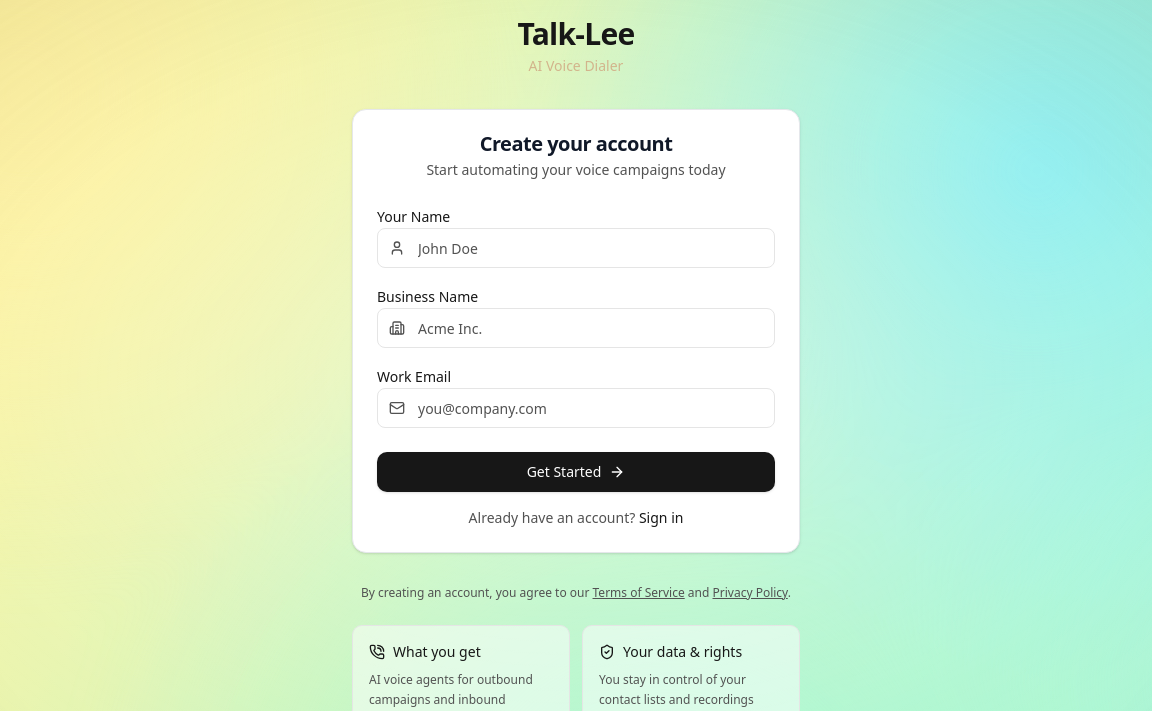
it: duplicate signup shows sign-in guidance and leaves the email editable
Type "Example Owner" into the field labelled "Your Name". click: (576, 248)
box: [377,228,775,268]
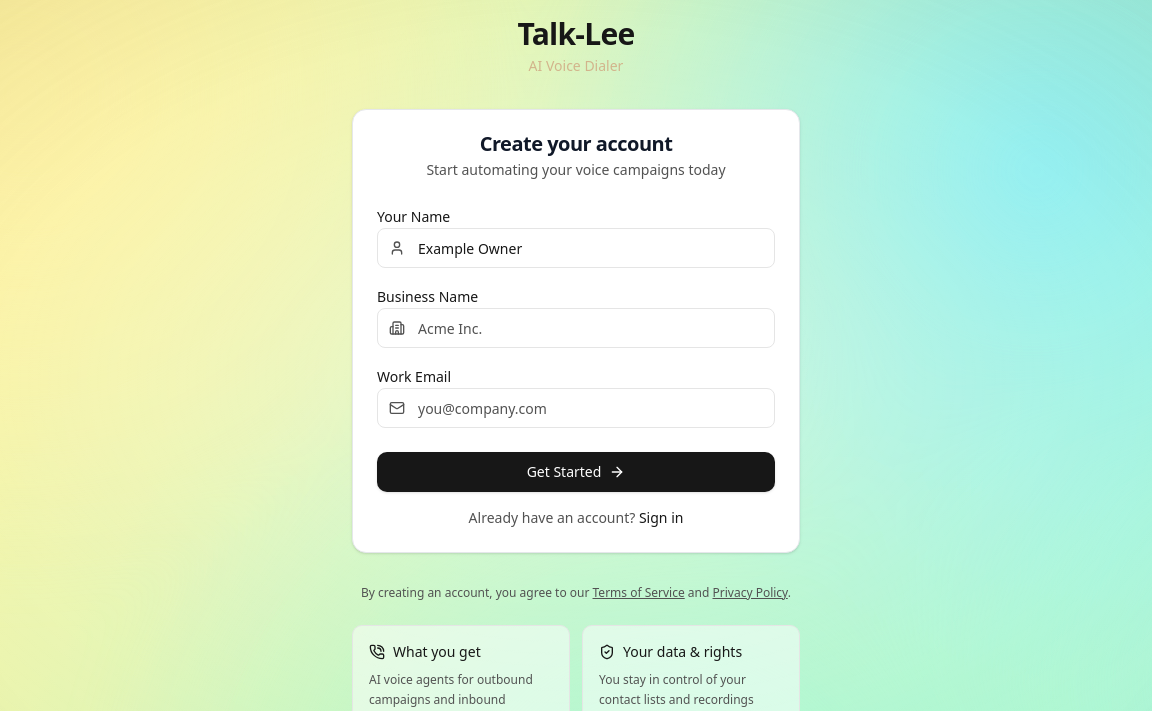
Type "Example" into the field labelled "Business Name". click: (576, 328)
box: [377,308,775,348]
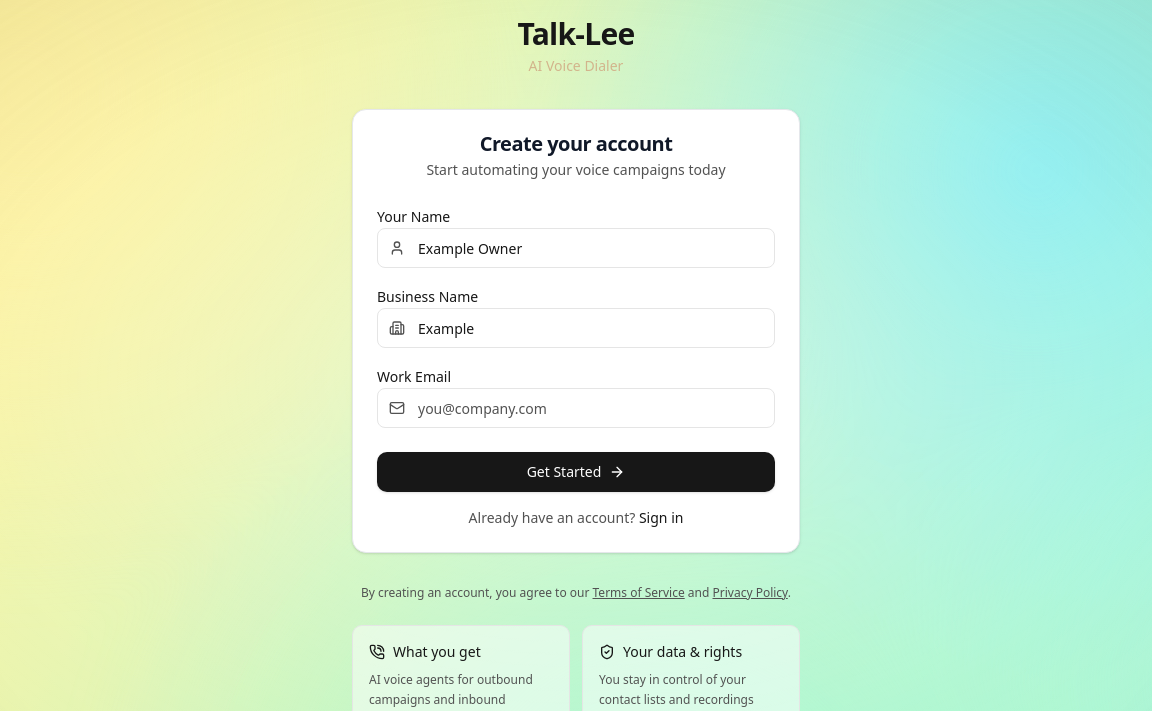
Type "owner@example.com" into the field labelled "Work Email". click: (576, 408)
box: [377,388,775,428]
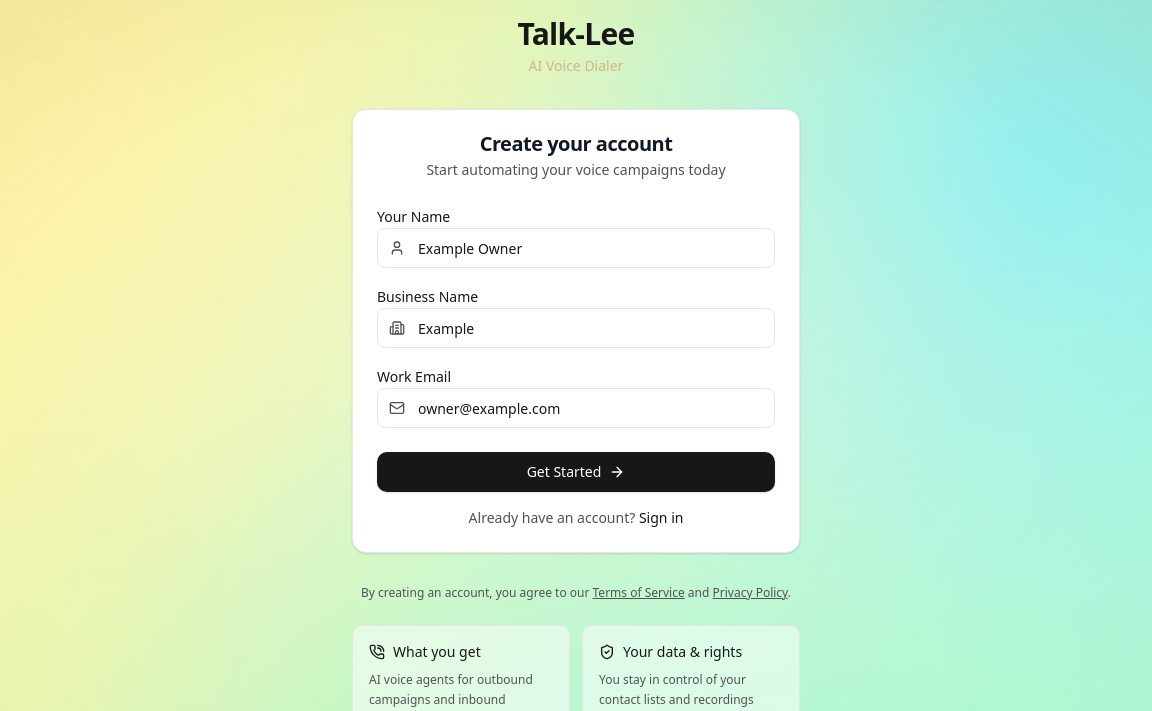
Click the button "Get Started". click: (576, 472)
box: [377,452,775,492]
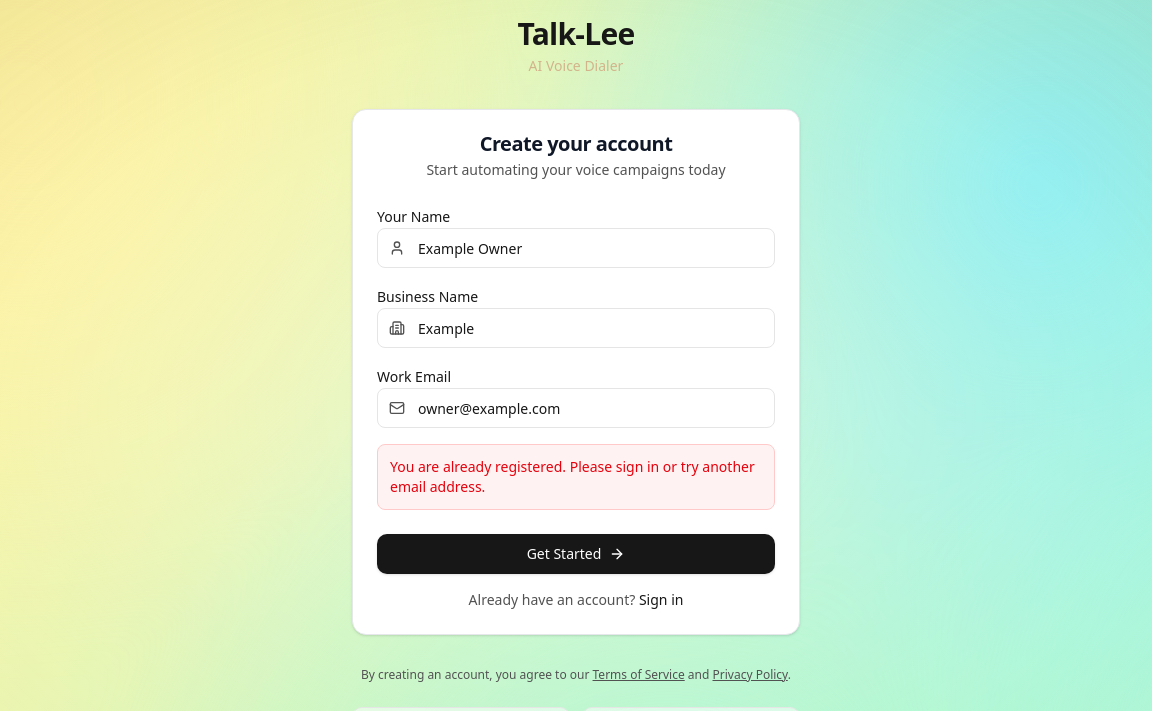
Expected: the message reads "You are already registered. Please sign in or try another email address.", [390,457,755,496]
